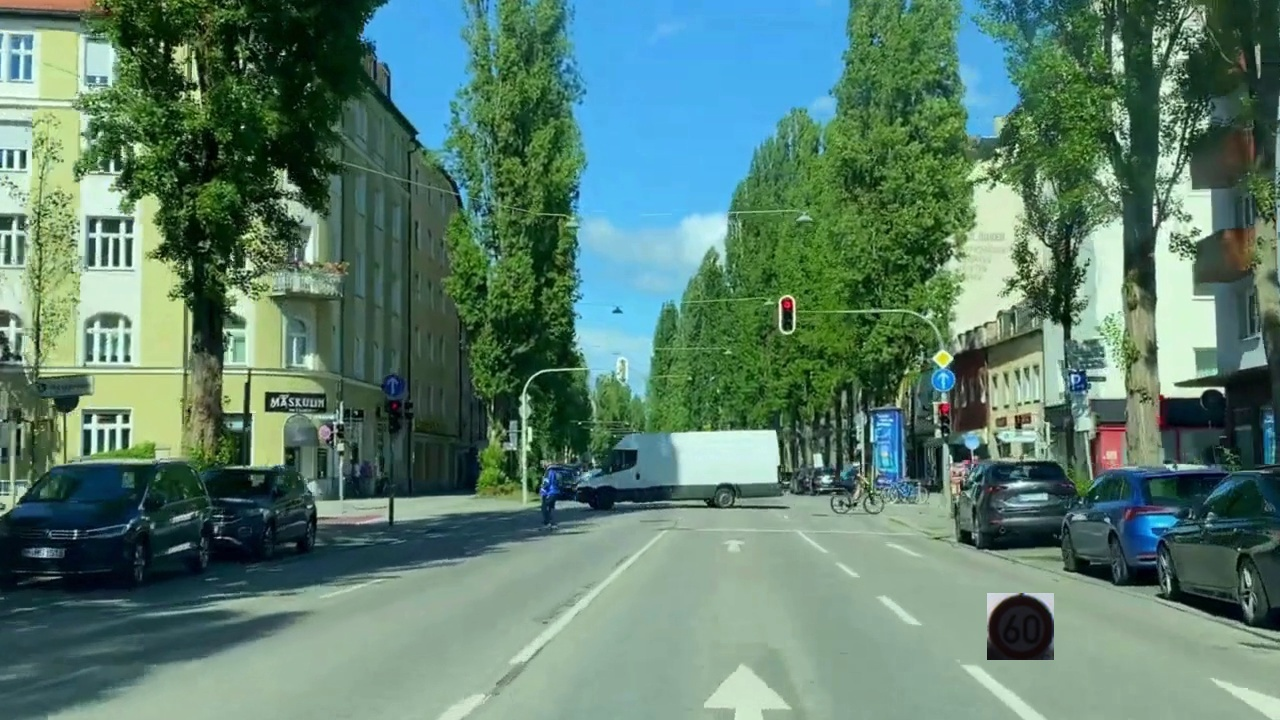Speed 60: (987, 593, 1054, 660)
